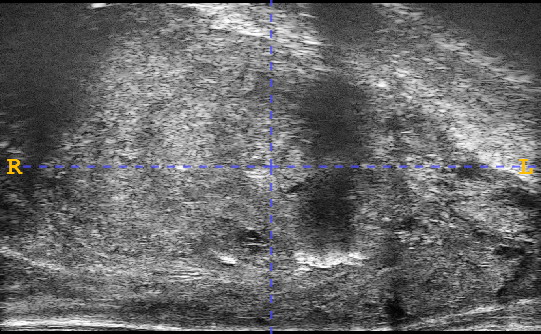calcifications: (211, 223, 380, 287)
